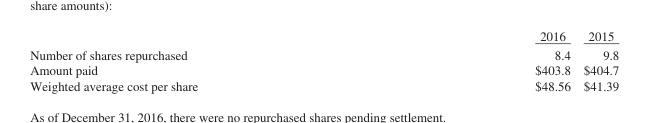table: (29, 28, 618, 92)
table column: (29, 28, 365, 92), (365, 28, 576, 92), (576, 28, 618, 92)
table column header: (29, 28, 618, 45)
table row: (29, 28, 618, 45), (29, 45, 618, 61), (29, 61, 618, 77), (29, 77, 618, 92)
